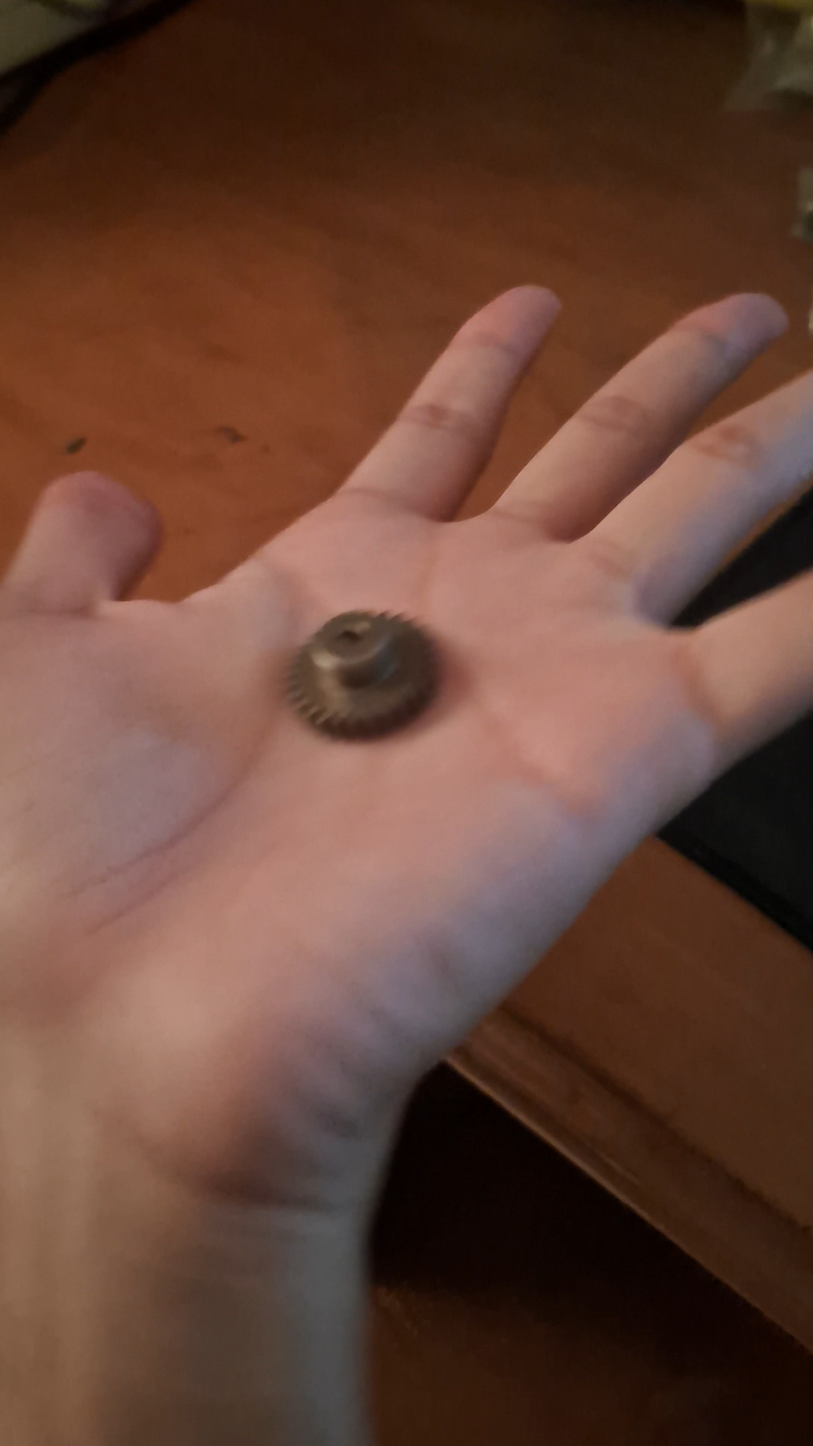spur gear: (286, 611, 437, 740)
